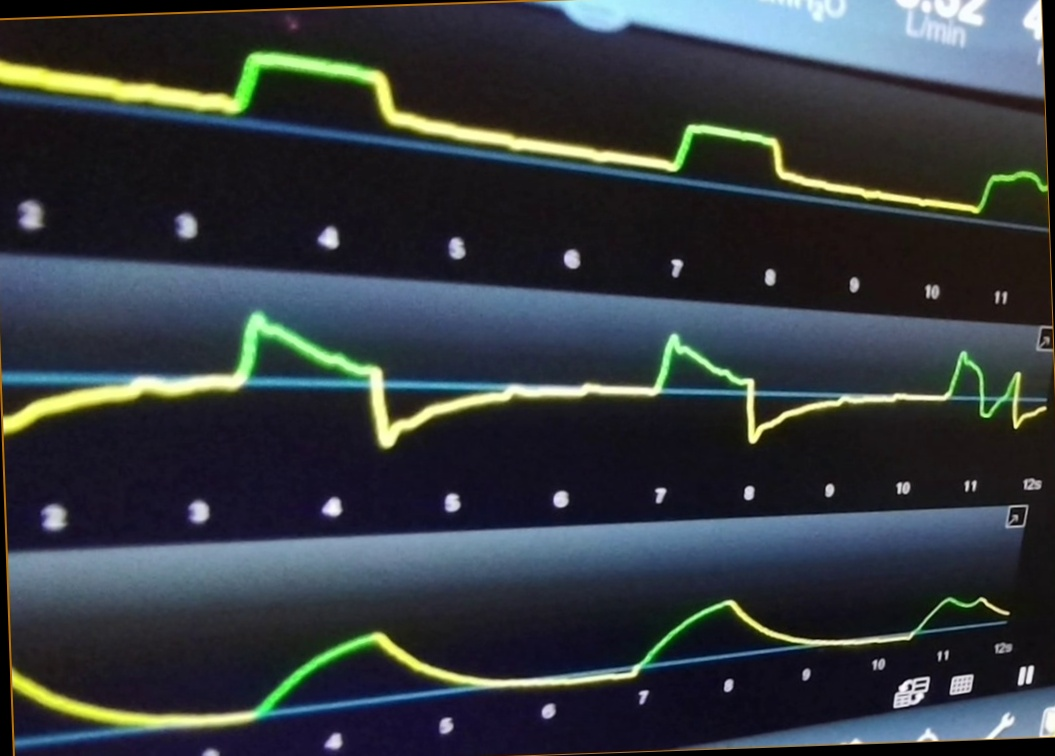Double_Triggering Flow: (7, 306, 1046, 453)
Double_Triggering Volume: (21, 597, 1008, 723)
